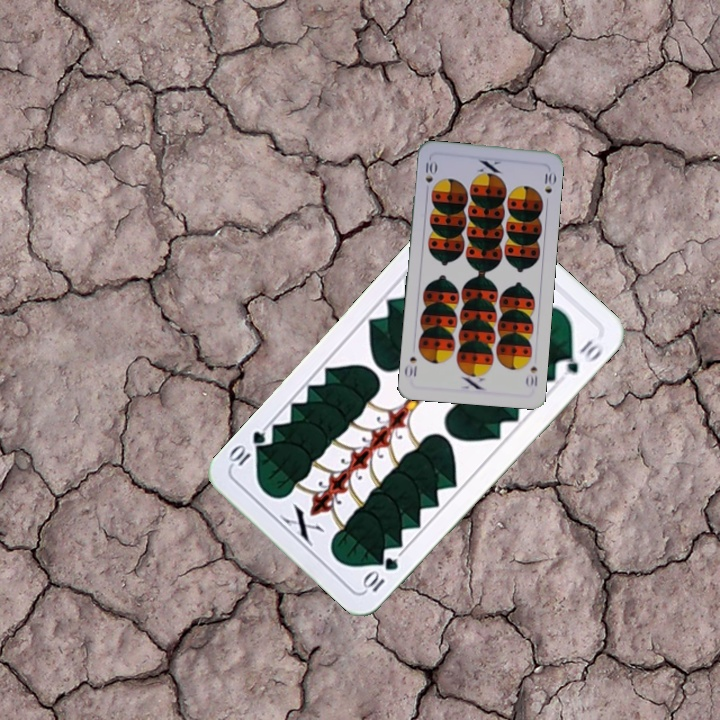G10: (359, 553, 401, 595)
S10: (421, 155, 438, 196), (522, 362, 540, 389)
